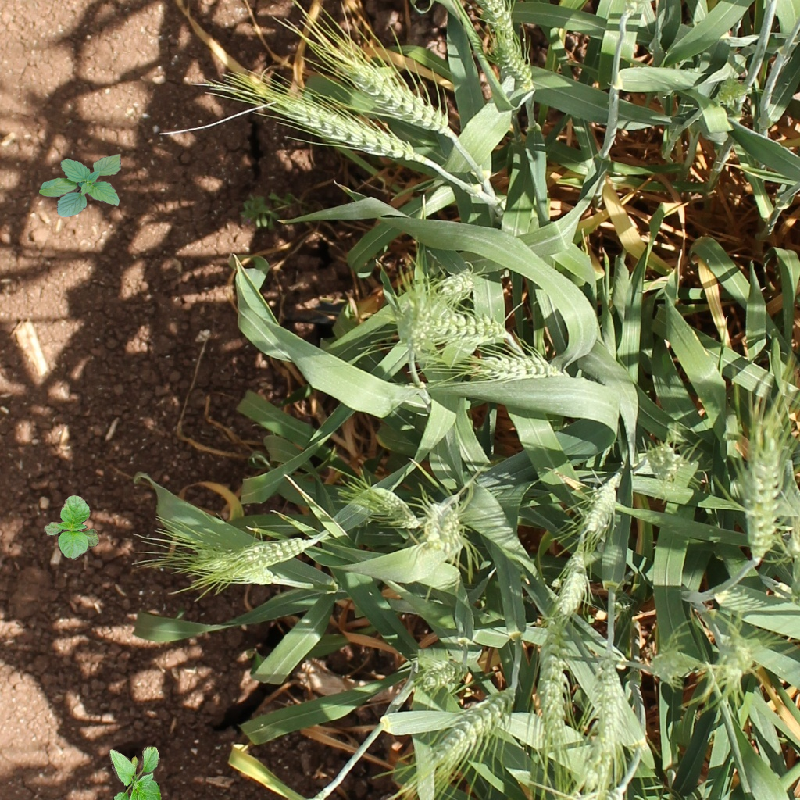spikelet: (264, 88, 423, 164), (340, 53, 455, 135), (739, 409, 789, 563), (422, 686, 513, 768), (583, 649, 629, 786), (533, 614, 576, 736), (391, 311, 514, 347), (416, 302, 510, 346), (468, 347, 571, 384), (354, 478, 421, 530), (182, 556, 275, 592), (578, 472, 623, 534), (222, 538, 314, 568), (489, 31, 536, 89), (420, 496, 467, 553), (710, 629, 756, 681), (553, 557, 593, 616), (411, 653, 467, 691), (640, 439, 685, 481), (469, 1, 517, 36), (435, 265, 479, 303), (711, 73, 750, 110)
weed: (39, 154, 121, 217), (44, 495, 99, 560), (108, 745, 162, 800)
